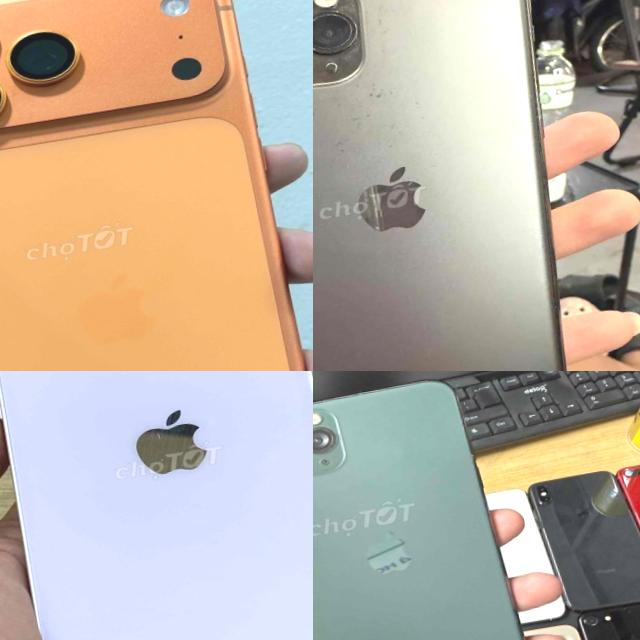gen_11: (313, 0, 564, 371), (313, 371, 548, 640)
gen_14: (0, 371, 313, 640)
gen_17: (0, 0, 313, 371)
scratch: (313, 0, 494, 209)
